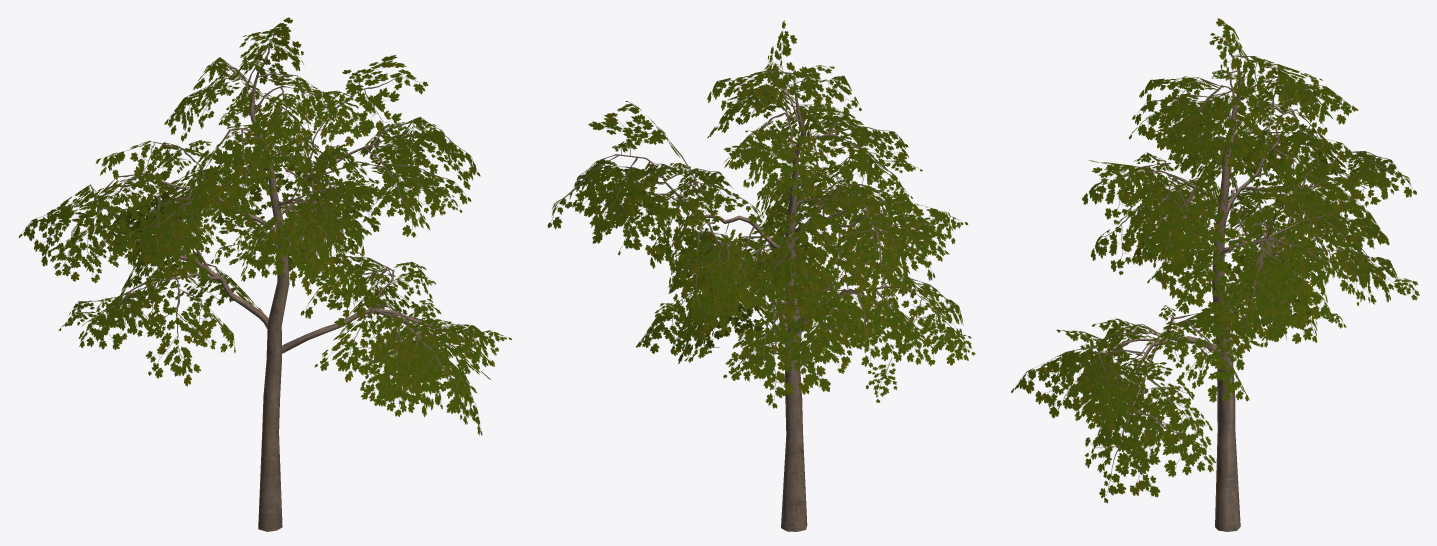
File: tree2.gltf
The picture shows the model from 3 angles, left to right: view 1: azimuth 30°, elevation 25°; view 2: azimuth 150°, elevation 25°; view 3: azimuth 270°, elevation 25°; orthographic projection. The views are drawn at different scales.
Parts seen in each view (by area): view 1: Acer_medium_3_LOD1; view 2: Acer_medium_3_LOD1; view 3: Acer_medium_3_LOD1.
Boxes of the visible parts, x1,y1,x2,y2 form: Acer_medium_3_LOD1: (18, 17, 511, 531); Acer_medium_3_LOD1: (547, 20, 975, 531); Acer_medium_3_LOD1: (1011, 18, 1419, 531).
Size of the model in its own units: 8.34 by 9.7 by 7.05.
2 materials, 2 textured.
